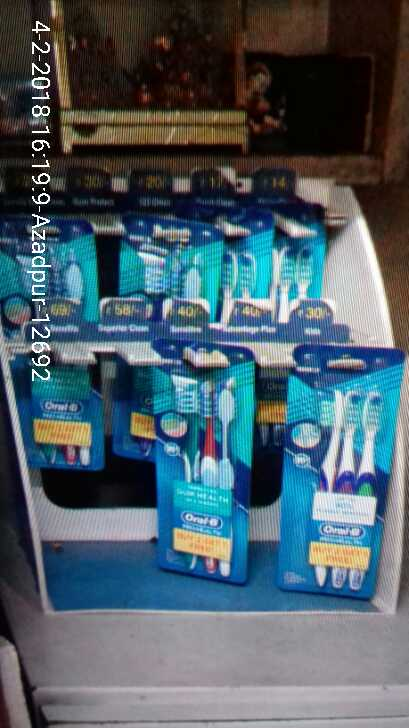oralb: (155, 373, 253, 575), (302, 382, 388, 602)
